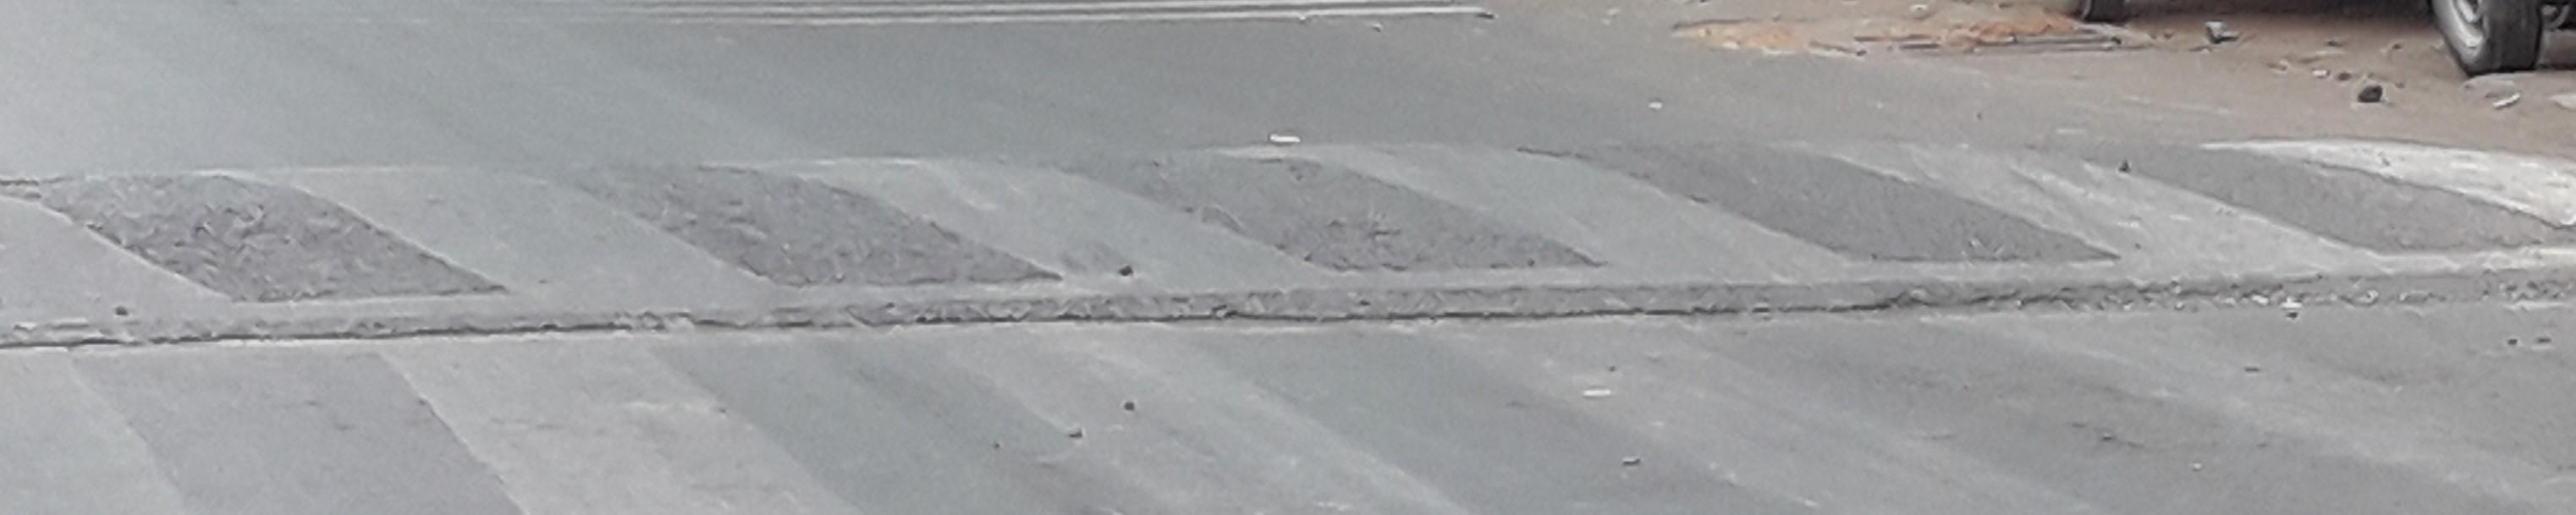speed-bump: (8, 126, 2572, 336)
